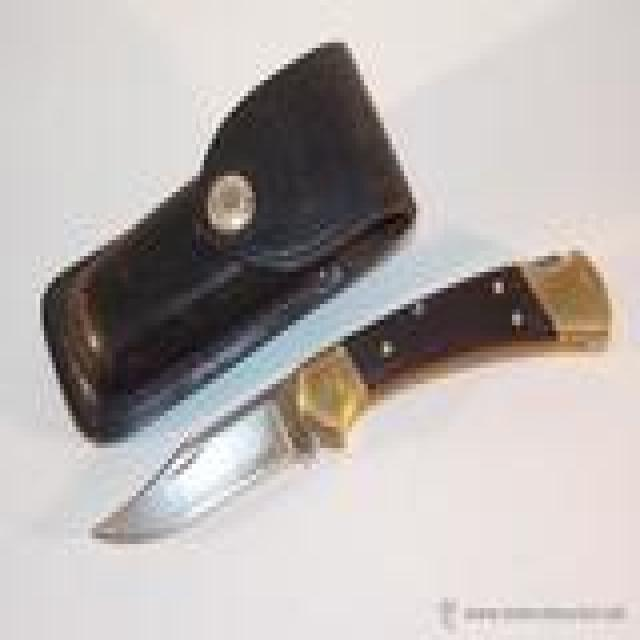Knife: (92, 249, 628, 555)
